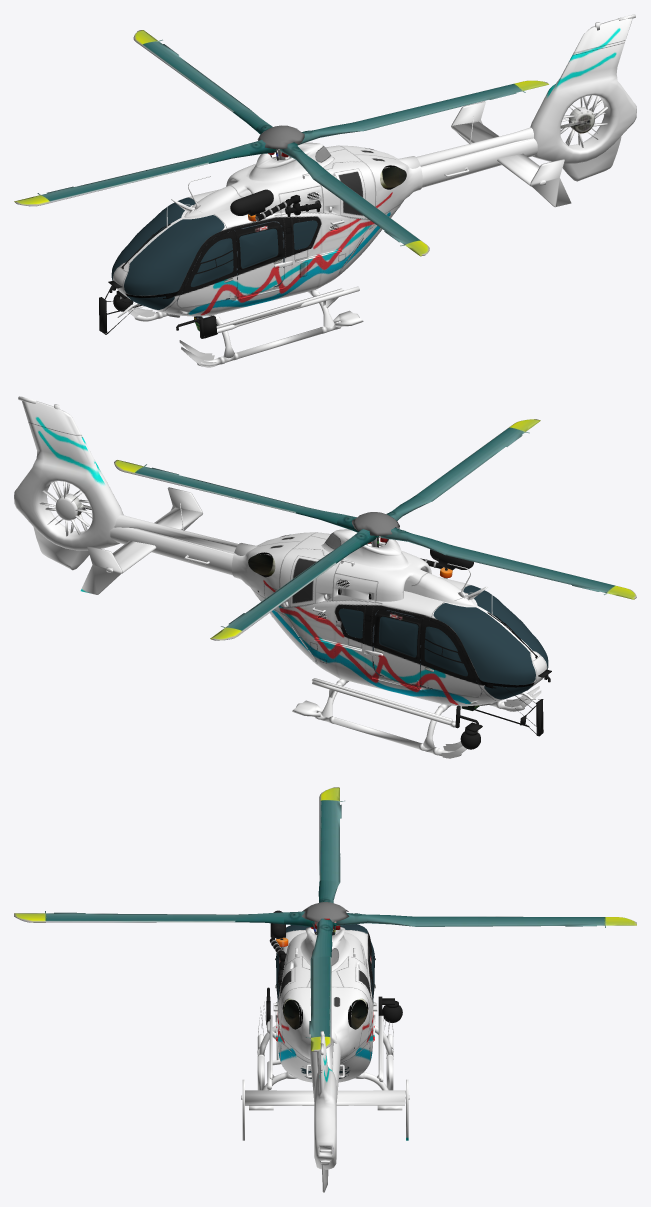
File: helicopter.glb
3 views of the same model, one above another, from view 1: azimuth 30°, elevation 25°; view 2: azimuth 150°, elevation 25°; view 3: azimuth 270°, elevation 25° (orthographic). The views are drawn at different scales.
Visible parts, largest first — view 1: fuselage, windscreen, IBF, backdoor.L, frontdoor.L, midskid, frontdoorglas.L, winch, backdoorglas.L, glas, blade3d, blade1d (+14 smaller); view 2: fuselage, windscreen, IBF, frontdoor.R, backdoor.R, midskid, frontdoorglas.R, backdoorglas.R, glas, blade1d, blade2d, blade3d (+17 smaller); view 3: fuselage, IBF, midskid, blade4d, blade2d, blade3d, blade1d, exhaust, rotorcap, blade2b, reardoor.R, reardoor.L (+4 smaller).
Boxes of the visible parts, x1,y1,x2,y2 form: fuselage: (113,14,636,316); windscreen: (111,197,224,295); IBF: (321,145,375,219); backdoor.L: (235,222,292,300); frontdoor.L: (177,230,237,307); midskid: (134,289,363,366); frontdoorglas.L: (190,238,233,286); winch: (230,189,300,221); backdoorglas.L: (239,228,278,268); glas: (127,220,317,309); blade3d: (14,182,106,206); blade1d: (458,80,548,105); fuselage: (14,396,547,706); windscreen: (433,585,548,685); IBF: (279,532,341,607); frontdoor.R: (420,618,481,697); backdoor.R: (364,609,422,689); midskid: (292,679,524,757); frontdoorglas.R: (424,626,467,676); backdoorglas.R: (379,616,418,657); glas: (338,608,532,699); blade1d: (114,460,201,488); blade2d: (210,603,275,640); blade3d: (549,571,636,599); fuselage: (241,927,409,1192); IBF: (279,956,371,1036); midskid: (249,1025,402,1110); blade4d: (14,911,112,922); blade2d: (538,917,636,927); blade3d: (319,787,344,829); blade1d: (305,1008,331,1051); exhaust: (283,998,367,1029); rotorcap: (302,902,349,922); blade2b: (415,916,478,926); reardoor.R: (338,1042,371,1082); reardoor.L: (279,1042,312,1082).
Bounding box in the file's own units: 11.88 × 4.08 × 10.1.
Materials: 11 (5 with a texture image).
